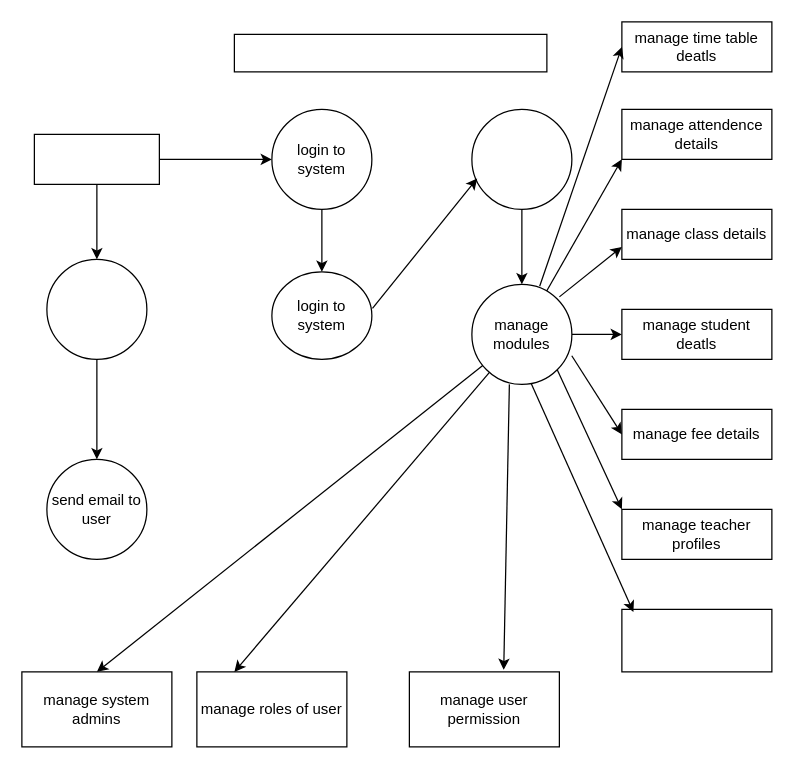
Some shapes in this 794 by 769 pixel diagram are drawn without their labels. Each missing label, with the box of its shape:
Admin: (33, 133, 159, 184)
check roles of acess: (471, 108, 572, 209)
forgot password: (46, 258, 147, 359)
manage report: (621, 608, 772, 672)
Student Information System: (233, 33, 547, 72)
